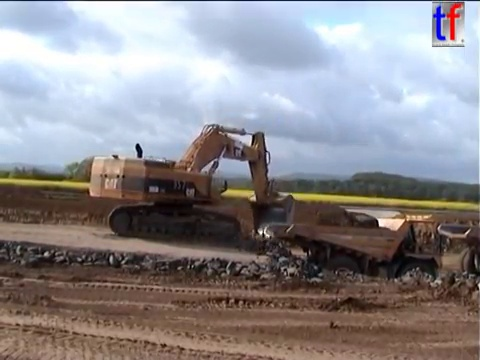excavator: (86, 122, 297, 246)
truck: (263, 211, 448, 299), (435, 221, 480, 283)
